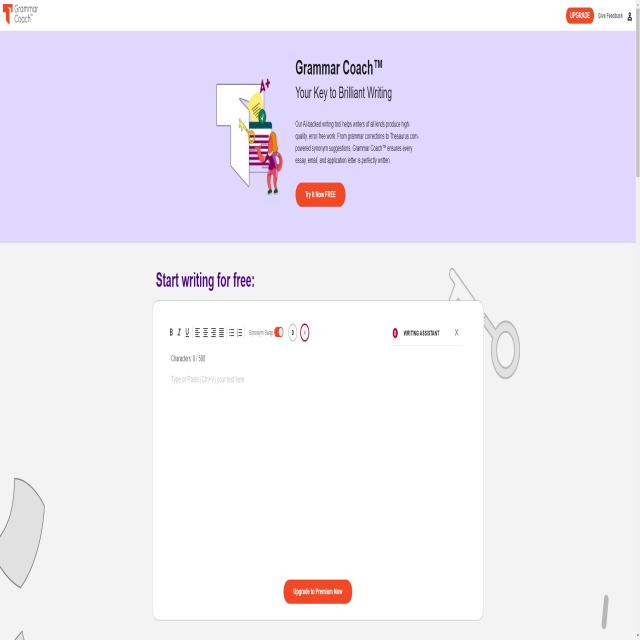menu-bar: (566, 4, 634, 31)
